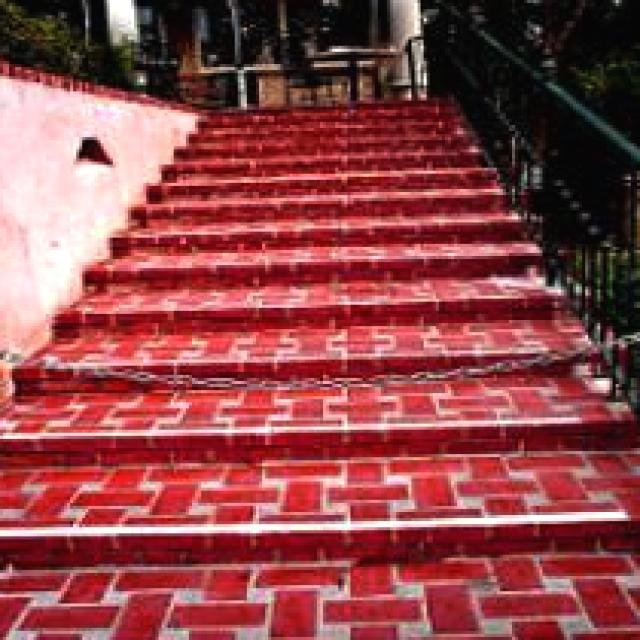upstair: (10, 291, 640, 614)
